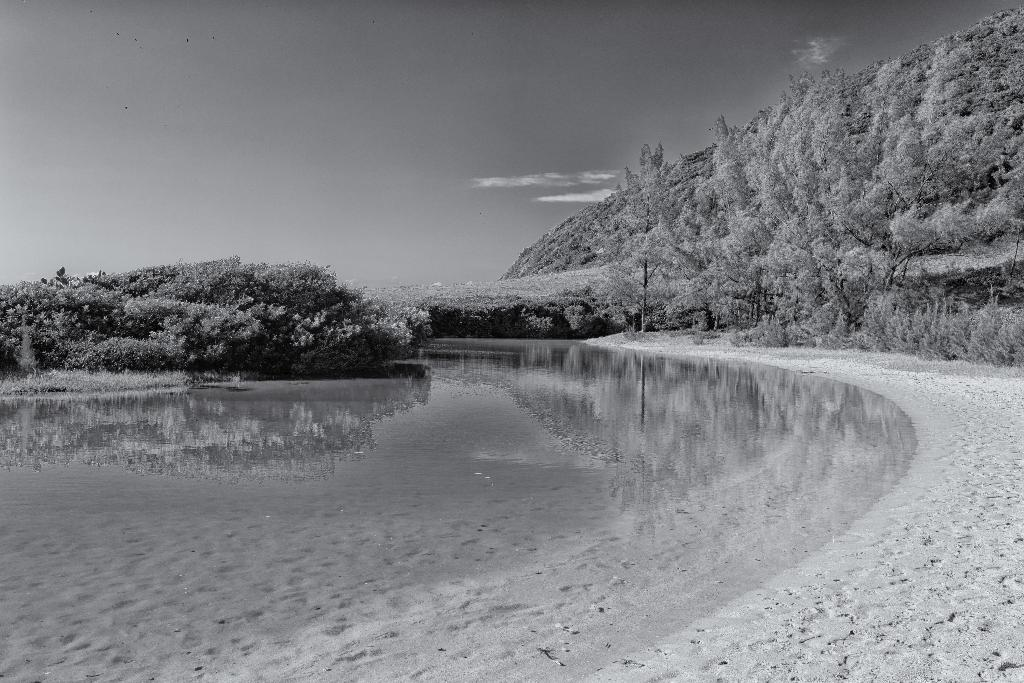Tree: (498, 3, 1023, 367), (579, 144, 711, 331)
